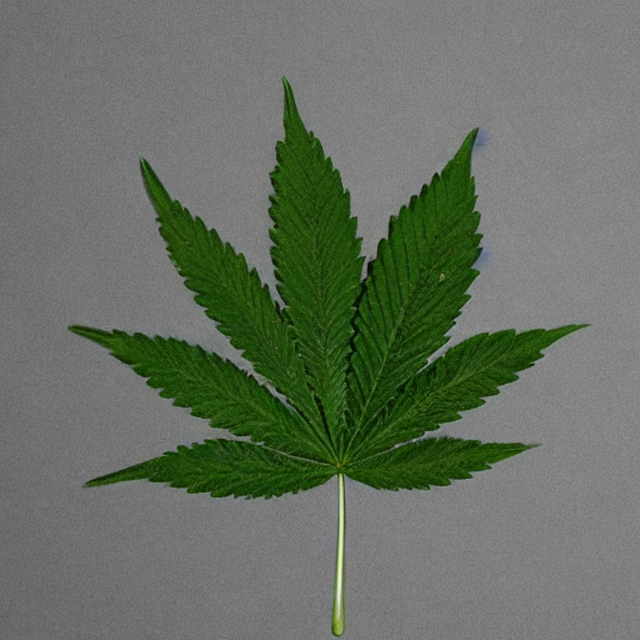Marijuana Leaf: (66, 73, 590, 635), (67, 75, 590, 504)
